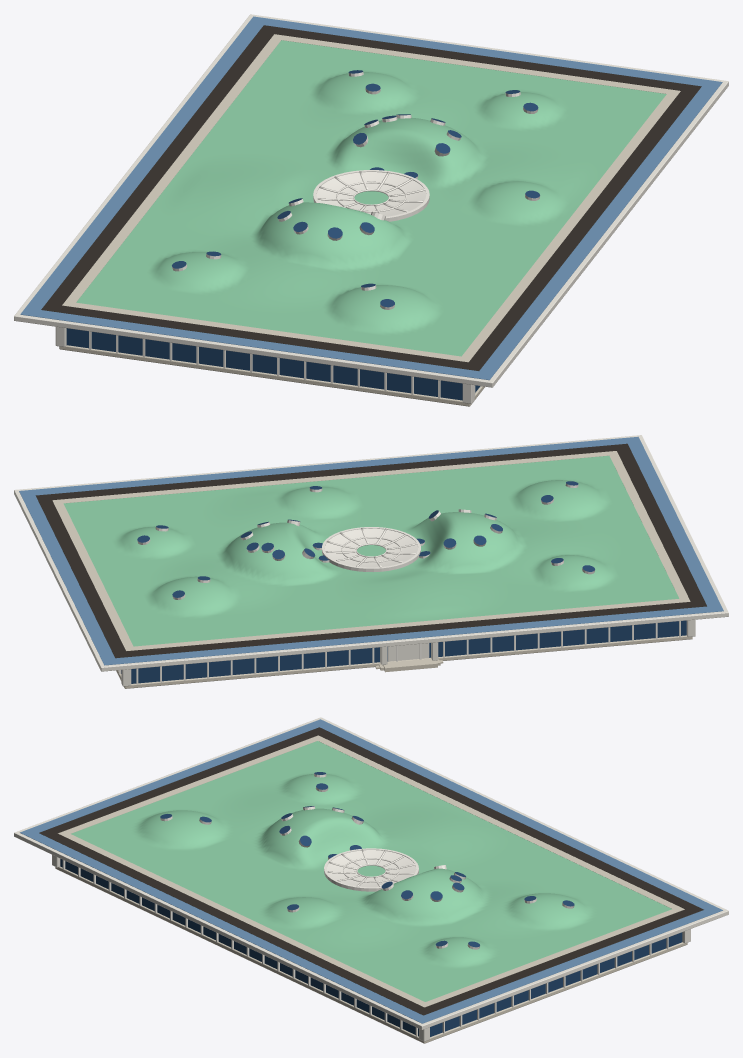
The model's file is cal-academy.glb.
3 views of the same model, one above another, from view 1: azimuth 30°, elevation 25°; view 2: azimuth 150°, elevation 25°; view 3: azimuth 270°, elevation 25° (orthographic). The views are drawn at different scales.
Parts seen in each view (by area): view 1: living_roof, eave_plate, glass_walls, canopy_glass_s, canopy_glass_n, pv_band_n, pv_band_s, canopy_glass_w, canopy_glass_e, roof_walk_n, roof_walk_s, pv_band_e (+6 smaller); view 2: living_roof, eave_plate, glass_walls, canopy_glass_n, canopy_glass_s, pv_band_s, pv_band_n, roof_walk_s, roof_walk_n, plinth, canopy_glass_e, canopy_glass_w (+8 smaller); view 3: living_roof, eave_plate, glass_walls, canopy_glass_s, canopy_glass_n, pv_band_n, pv_band_s, plinth, roof_walk_n, canopy_glass_e, roof_walk_s, canopy_glass_w (+6 smaller).
Part boxes in pixels (box(x1,y1,x2,y2)): living_roof: box(76, 40, 666, 356); eave_plate: box(14, 14, 728, 387); glass_walls: box(66, 328, 480, 400); canopy_glass_s: box(474, 80, 722, 380); canopy_glass_n: box(20, 16, 268, 316); pv_band_n: box(41, 25, 278, 311); pv_band_s: box(464, 84, 701, 370); canopy_glass_w: box(36, 310, 478, 377); canopy_glass_e: box(264, 18, 706, 86); roof_walk_n: box(62, 34, 284, 306); roof_walk_s: box(458, 89, 680, 362); pv_band_e: box(274, 27, 685, 90); living_roof: box(63, 455, 679, 646); eave_plate: box(14, 435, 728, 671); glass_walls: box(121, 620, 686, 683); canopy_glass_n: box(101, 605, 723, 665); canopy_glass_s: box(19, 436, 641, 496); pv_band_s: box(35, 443, 630, 501); pv_band_n: box(112, 600, 706, 658); roof_walk_s: box(52, 451, 618, 503); roof_walk_n: box(124, 598, 690, 650); plinth: box(116, 635, 692, 688); canopy_glass_e: box(22, 495, 114, 659); canopy_glass_w: box(628, 442, 720, 606); living_roof: box(71, 741, 671, 1001); eave_plate: box(14, 717, 728, 1029); glass_walls: box(60, 859, 682, 1036); canopy_glass_s: box(20, 829, 431, 1023); canopy_glass_n: box(311, 719, 722, 913); pv_band_n: box(310, 727, 703, 913); pv_band_s: box(39, 829, 433, 1015); plinth: box(55, 866, 687, 1043); roof_walk_n: box(312, 735, 684, 911); canopy_glass_e: box(424, 910, 712, 1019); roof_walk_s: box(58, 831, 430, 1007); canopy_glass_w: box(30, 723, 318, 832).
Bounding box in the file's own units: 213 × 19.3 × 208.
